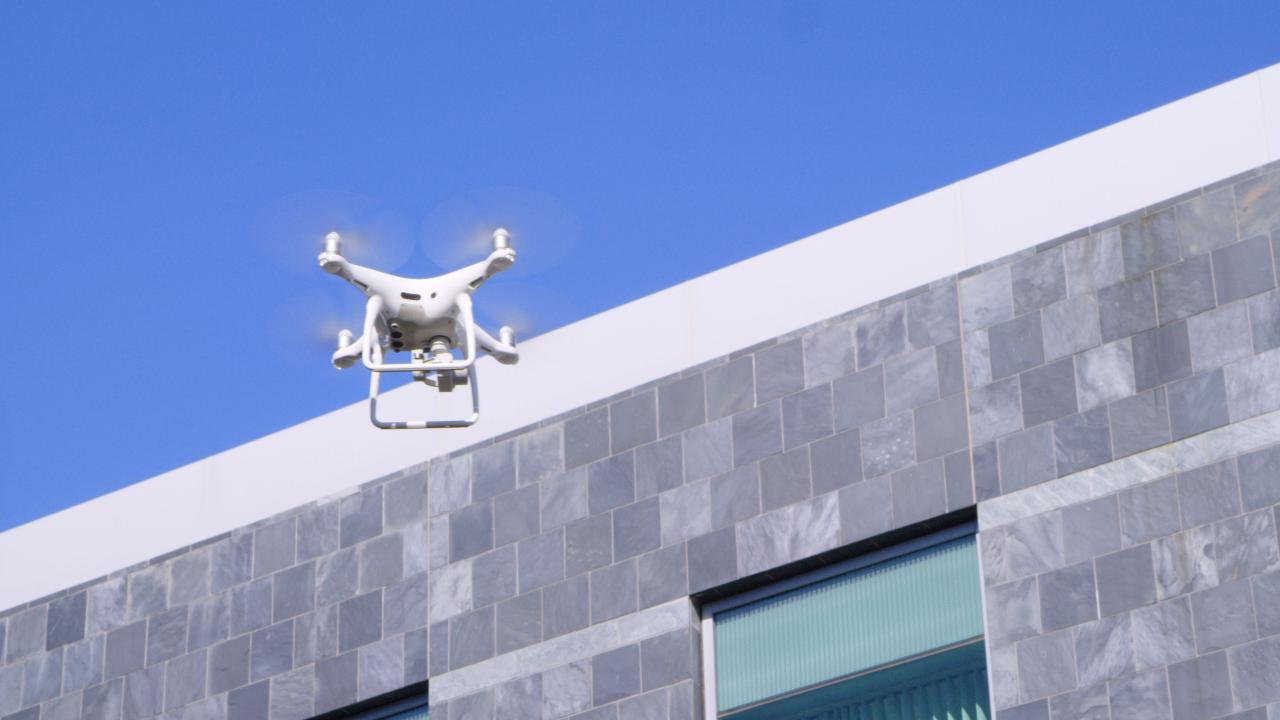Drone: (252, 176, 594, 445)
